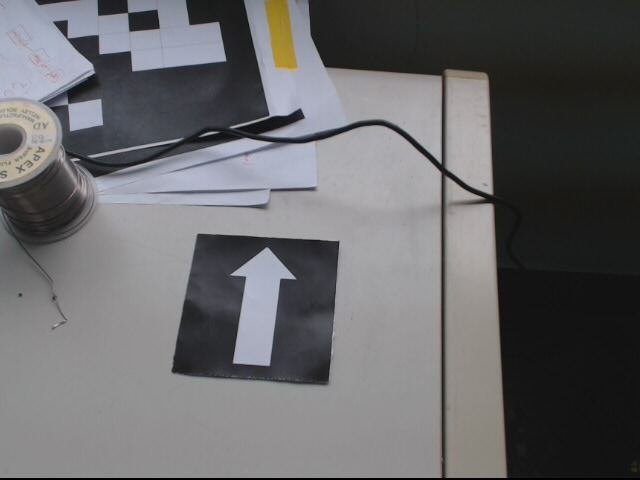straight: (170, 234, 341, 382)
